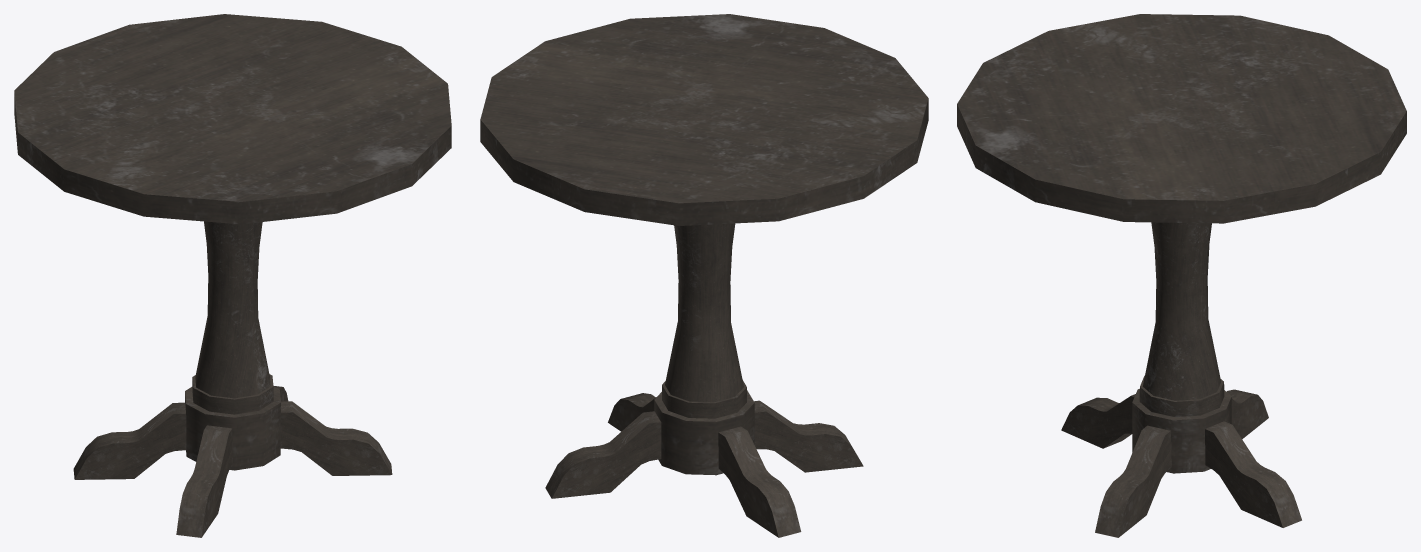
Rendered from table.fbx.
3 views of the same model, side by side, from view 1: azimuth 30°, elevation 25°; view 2: azimuth 150°, elevation 25°; view 3: azimuth 270°, elevation 25° (orthographic).
Parts seen in each view (by area): view 1: Cylinder.001; view 2: Cylinder.001; view 3: Cylinder.001.
Part boxes in pixels (left/top/right/bottom): Cylinder.001: left=14, top=14, right=451, bottom=537; Cylinder.001: left=480, top=14, right=928, bottom=537; Cylinder.001: left=957, top=14, right=1406, bottom=537.
Size of the model in its own units: 98.82 by 90.71 by 100.
